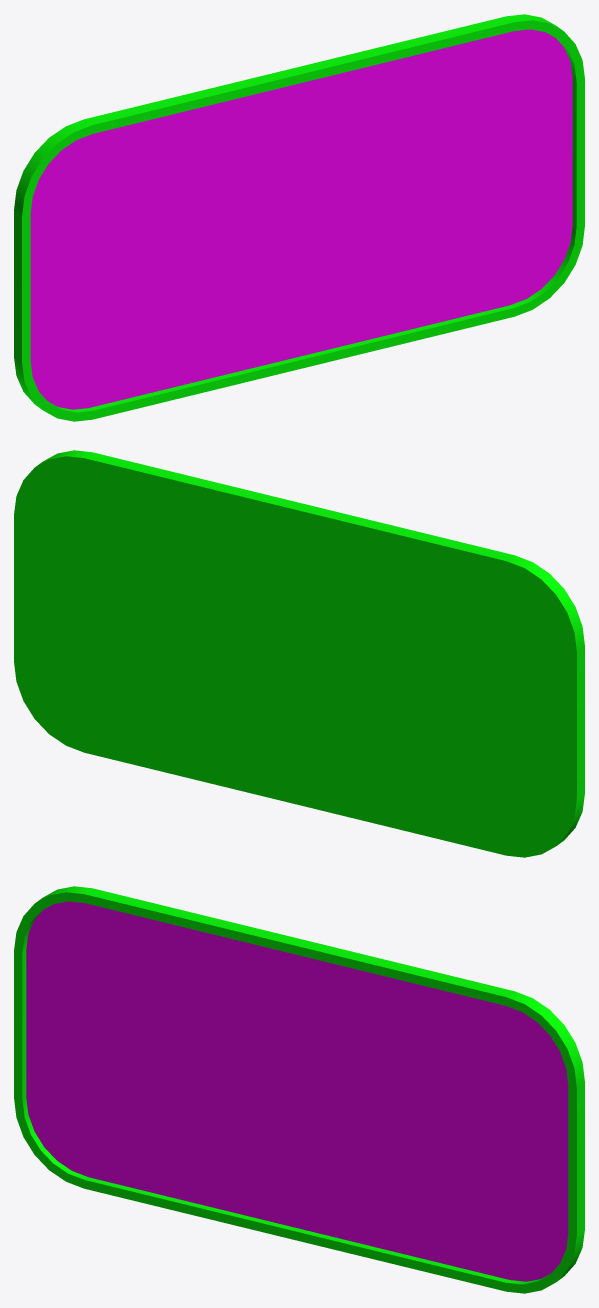
The model's file is screen for ticket.fbx.
3 renders of one model, top to bottom at view 1: azimuth 30°, elevation 25°; view 2: azimuth 150°, elevation 25°; view 3: azimuth 330°, elevation 25°, orthographic.
Parts seen in each view (by area): view 1: pCube3; view 2: pCube3; view 3: pCube3.
Part boxes in pixels (x1,y1,x2,y2): pCube3: (14,14,584,421); pCube3: (14,450,584,857); pCube3: (14,886,584,1293).
Bounding box in the file's own units: 40 × 20 × 1.
